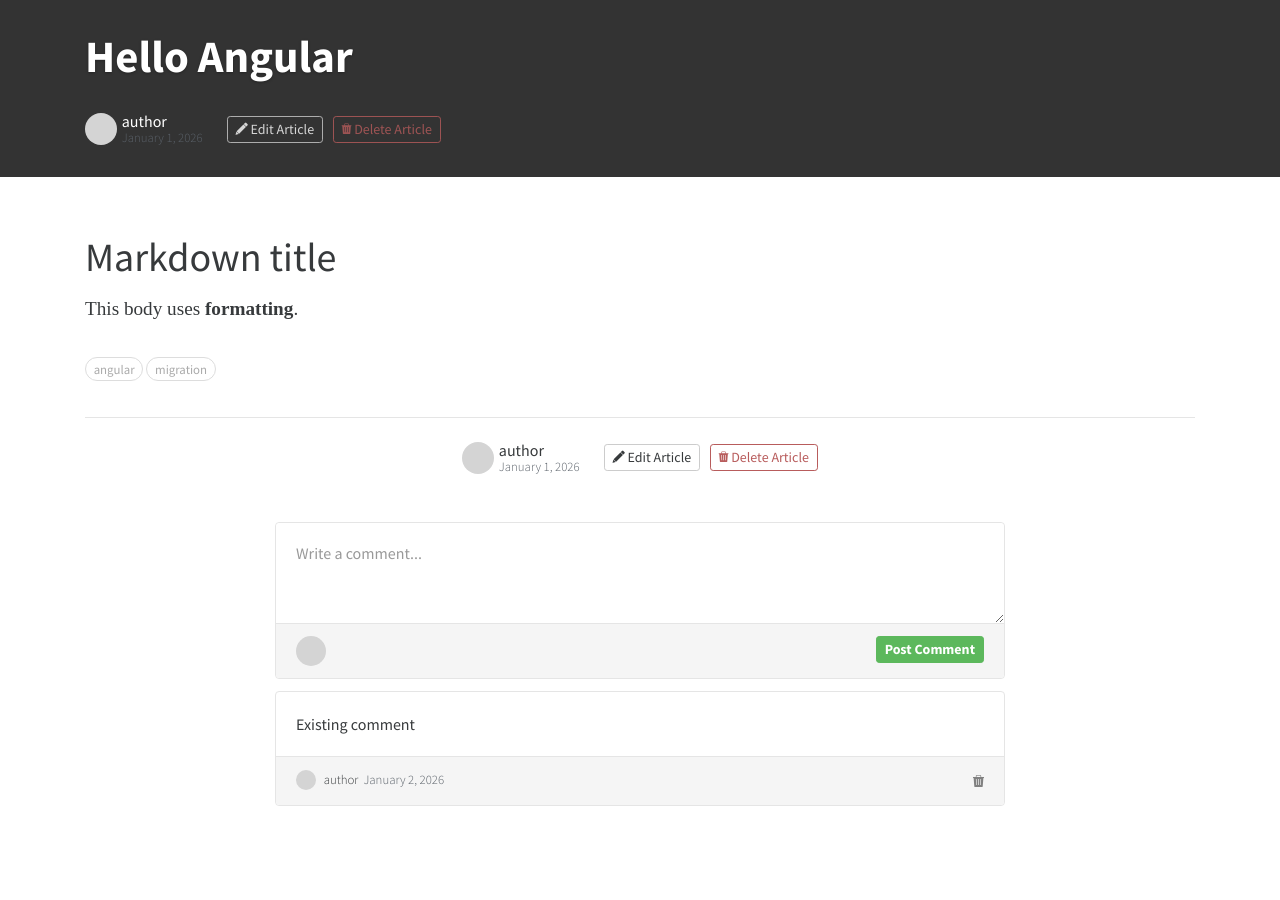
Scenario: ArticleComponent › allows authors to delete their own comments
This screenshot has width=1280, height=900.
Click the icon in the row of "January 2, 2026" at (978, 781), box [973,771,984,791]
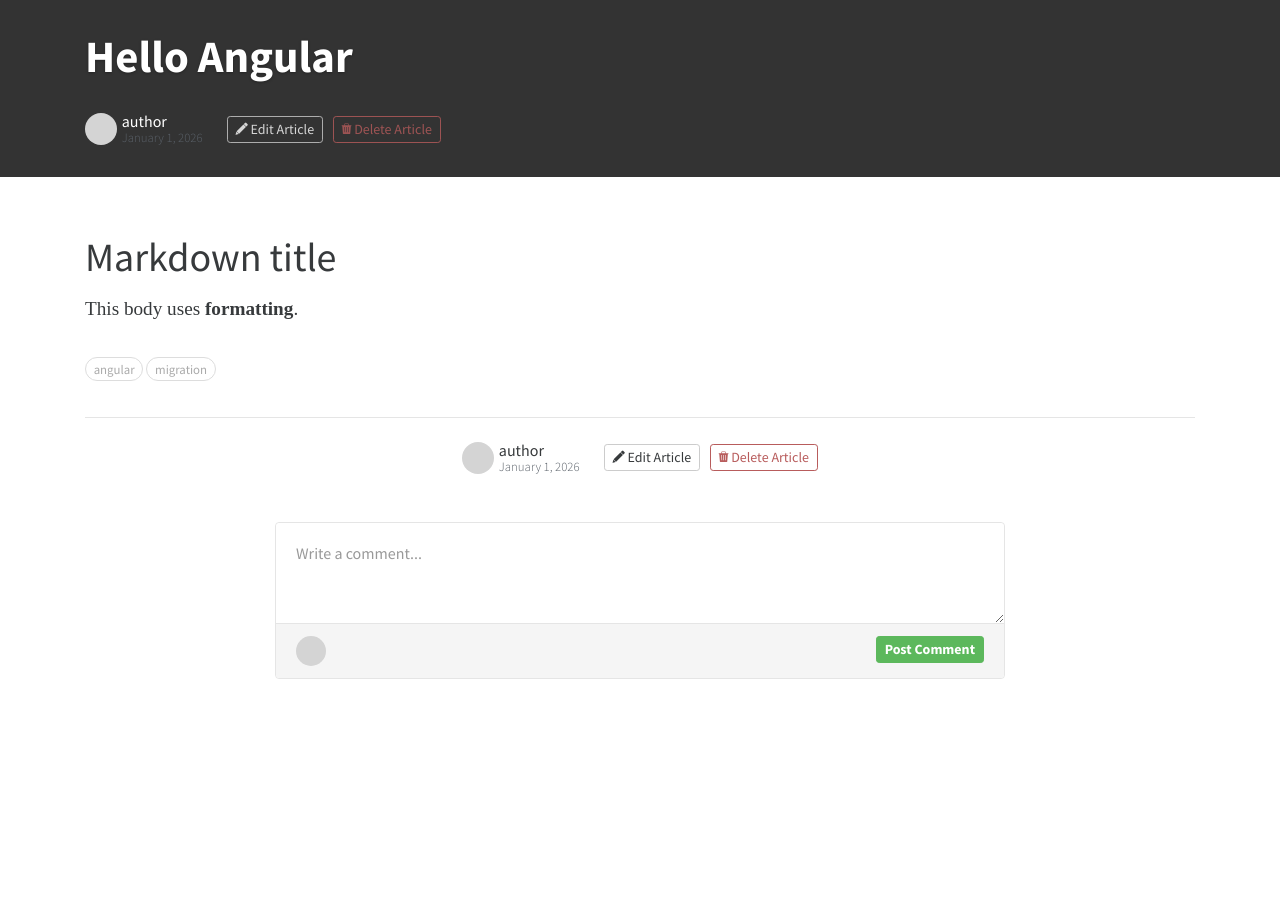
Expected: the text "Existing comment" is gone
